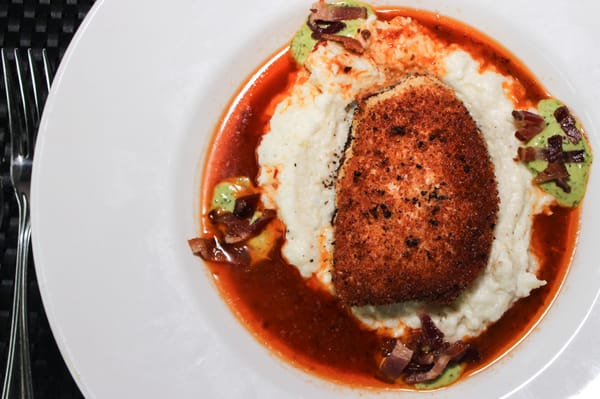sushi: (189, 1, 599, 389)
